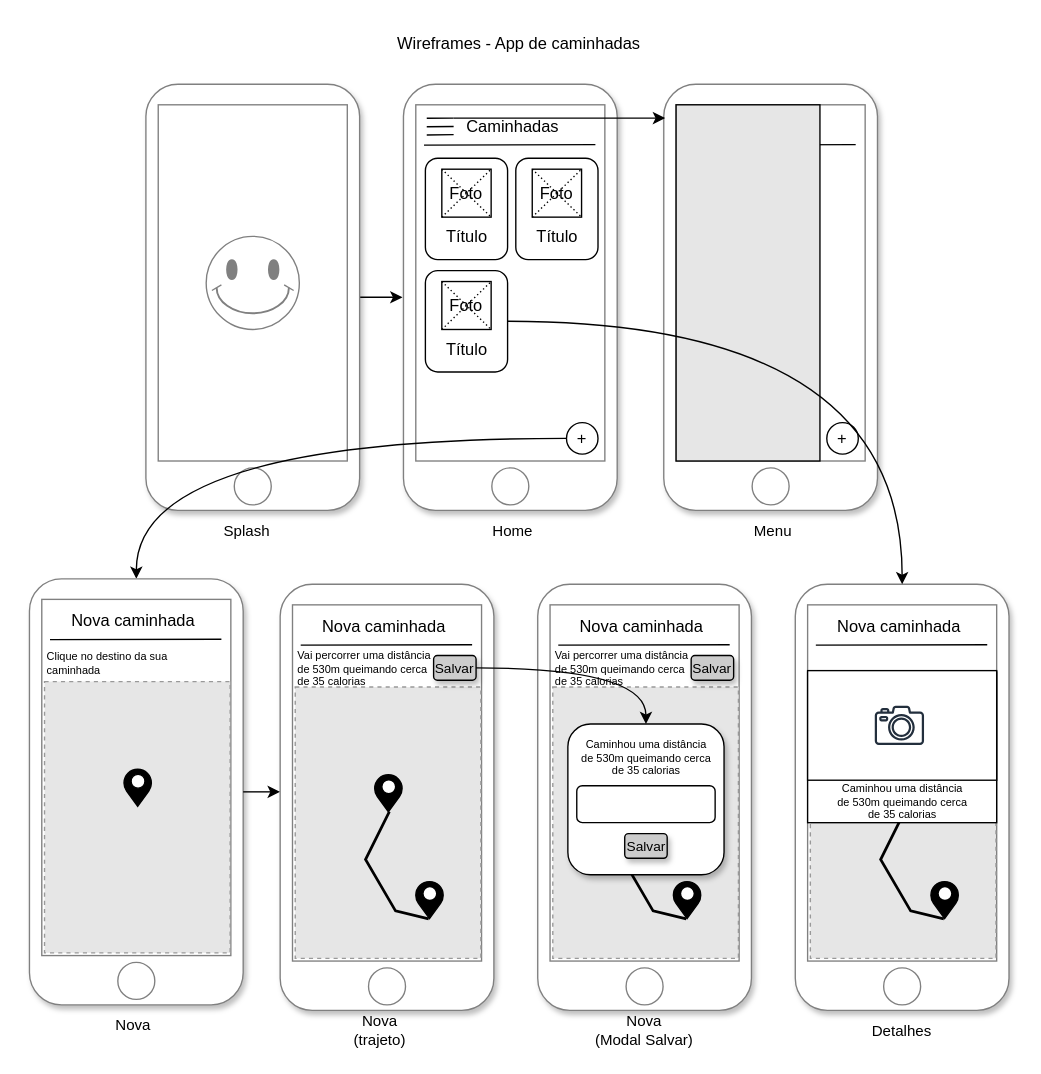
The diagram is 1041 pixels wide and 1074 high, and some of its shapes have lost their labels. Grey dashed boxes stand in for pictures. Each missing label, with the centre of its shape:
"< Splash Tema Claro Sair" belongs at pixel 747 282.
"Título da caminhada" belongs at pixel 645 803.
